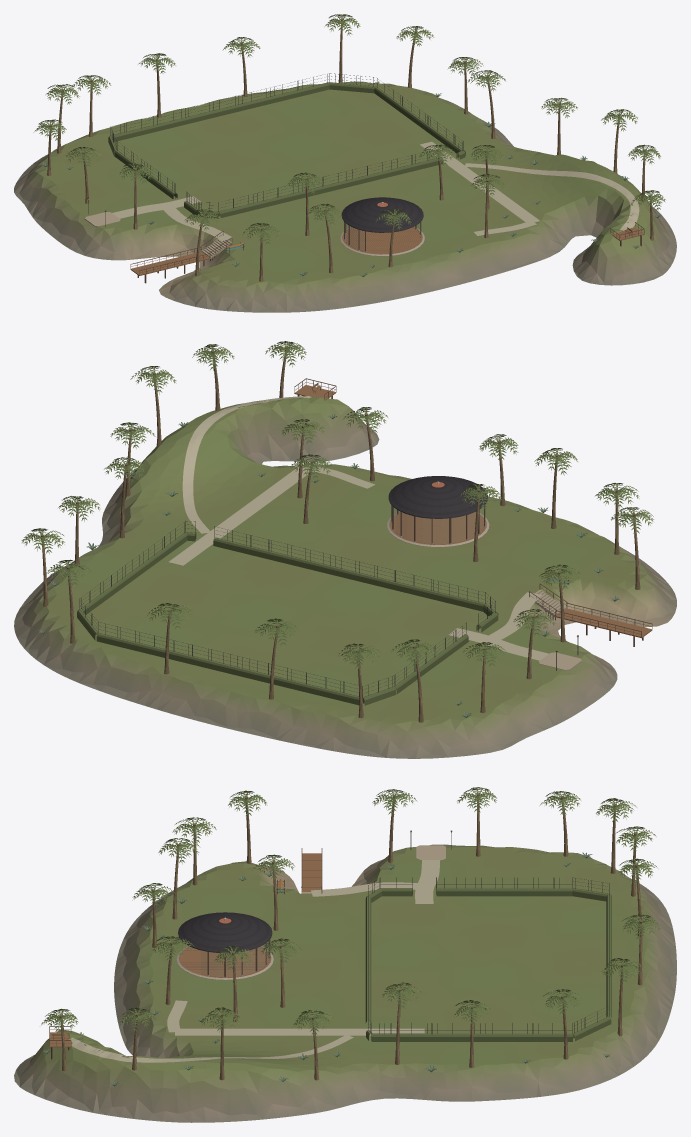
The model's file is after-hours-coast.glb.
3 renders of one model, top to bottom at view 1: azimuth 30°, elevation 25°; view 2: azimuth 150°, elevation 25°; view 3: azimuth 270°, elevation 25°, orthographic. The views are drawn at different scales.
Parts seen in each view (by area): view 1: AfterHours_ContinuousCoast, AfterHours_CourtHedge_NW_ClippedHedge, AfterHours_Pavilion_DomeDisc, AfterHours_CourtHedge_SW_ClippedHedge, AfterHours_Pavilion_DeckAndSkirt, AfterHours_TailRidgePath, AfterHours_CourtsToLawn, AfterHours_CourtHedge_NW_LightFence, AfterHours_KayakJetty, AfterHours_CoveApproach, AfterHours_WestLandingWalk, AfterHours_CourtHedge_SW_LightFence (+1 smaller); view 2: AfterHours_ContinuousCoast, AfterHours_CourtHedge_NW_ClippedHedge, AfterHours_Pavilion_DomeDisc, AfterHours_CourtHedge_SW_ClippedHedge, AfterHours_Pavilion_DeckAndSkirt, AfterHours_CourtsToLawn, AfterHours_Pavilion_SmokedGlass, AfterHours_TailRidgePath, AfterHours_CourtHedge_NW_LightFence, AfterHours_KayakJetty, AfterHours_CourtHedge_SW_LightFence, AfterHours_CoveApproach (+1 smaller); view 3: AfterHours_ContinuousCoast, AfterHours_CourtHedge_NW_ClippedHedge, AfterHours_Pavilion_DomeDisc, AfterHours_Pavilion_DeckAndSkirt, AfterHours_CourtsToLawn, AfterHours_TailRidgePath, AfterHours_CourtHedge_SW_ClippedHedge, AfterHours_CourtHedge_NW_LightFence, AfterHours_Pavilion_SmokedGlass, AfterHours_KayakJetty, AfterHours_CoveApproach, AfterHours_WestLandingWalk (+4 smaller).
Part boxes in pixels (<box>): AfterHours_ContinuousCoast: <box>14,81,676,312</box>; AfterHours_CourtHedge_NW_ClippedHedge: <box>108,82,465,198</box>; AfterHours_Pavilion_DomeDisc: <box>341,197,423,232</box>; AfterHours_CourtHedge_SW_ClippedHedge: <box>184,157,443,218</box>; AfterHours_Pavilion_DeckAndSkirt: <box>340,226,424,256</box>; AfterHours_TailRidgePath: <box>464,163,639,230</box>; AfterHours_CourtsToLawn: <box>420,141,539,222</box>; AfterHours_CourtHedge_NW_LightFence: <box>110,73,463,198</box>; AfterHours_KayakJetty: <box>130,247,210,283</box>; AfterHours_CoveApproach: <box>161,205,232,240</box>; AfterHours_WestLandingWalk: <box>112,196,200,218</box>; AfterHours_CourtHedge_SW_LightFence: <box>186,149,442,216</box>; AfterHours_ContinuousCoast: <box>14,396,676,758</box>; AfterHours_CourtHedge_NW_ClippedHedge: <box>77,531,468,705</box>; AfterHours_Pavilion_DomeDisc: <box>388,476,487,518</box>; AfterHours_CourtHedge_SW_ClippedHedge: <box>213,537,498,632</box>; AfterHours_Pavilion_DeckAndSkirt: <box>387,511,489,547</box>; AfterHours_CourtsToLawn: <box>169,466,309,565</box>; AfterHours_Pavilion_SmokedGlass: <box>394,508,483,543</box>; AfterHours_TailRidgePath: <box>182,396,311,533</box>; AfterHours_CourtHedge_NW_LightFence: <box>79,521,466,701</box>; AfterHours_KayakJetty: <box>555,602,652,646</box>; AfterHours_CourtHedge_SW_LightFence: <box>214,526,495,631</box>; AfterHours_CoveApproach: <box>483,592,541,642</box>; AfterHours_ContinuousCoast: <box>14,844,676,1122</box>; AfterHours_CourtHedge_NW_ClippedHedge: <box>366,887,611,1041</box>; AfterHours_Pavilion_DomeDisc: <box>178,912,272,952</box>; AfterHours_Pavilion_DeckAndSkirt: <box>176,946,273,979</box>; AfterHours_CourtsToLawn: <box>175,1028,424,1035</box>; AfterHours_TailRidgePath: <box>69,1034,353,1062</box>; AfterHours_CourtHedge_SW_ClippedHedge: <box>365,888,412,1023</box>; AfterHours_CourtHedge_NW_LightFence: <box>368,877,609,1040</box>; AfterHours_Pavilion_SmokedGlass: <box>201,941,268,976</box>; AfterHours_KayakJetty: <box>301,848,322,891</box>; AfterHours_CoveApproach: <box>311,882,424,896</box>; AfterHours_WestLandingWalk: <box>415,860,440,903</box>.
Bounding box in the file's own units: 94.81 × 16.69 × 98.31.
